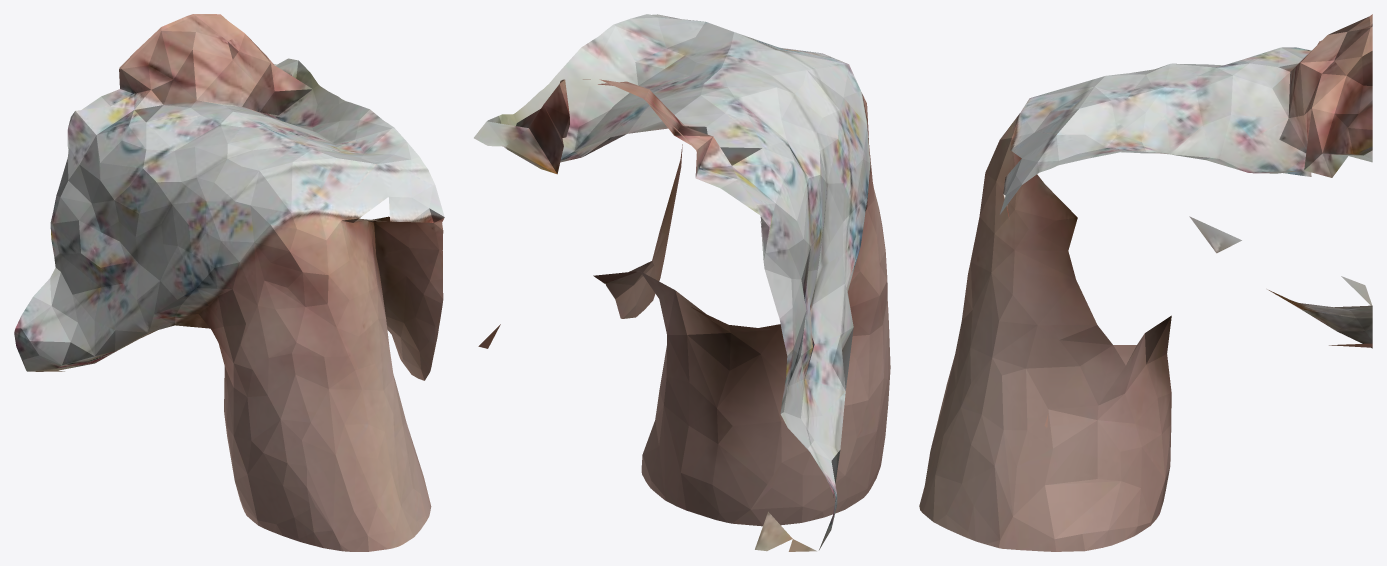
3 views of the same model, side by side, from view 1: azimuth 30°, elevation 25°; view 2: azimuth 150°, elevation 25°; view 3: azimuth 270°, elevation 25° (orthographic). The views are drawn at different scales.
Size of the model in its own units: 180 by 249 by 216.
Materials: 1 (1 with a texture image).
